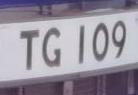0: (90, 18, 112, 66)
1: (71, 20, 91, 69)
9: (110, 16, 130, 63)
G: (40, 23, 65, 73)
T: (14, 25, 44, 76)
